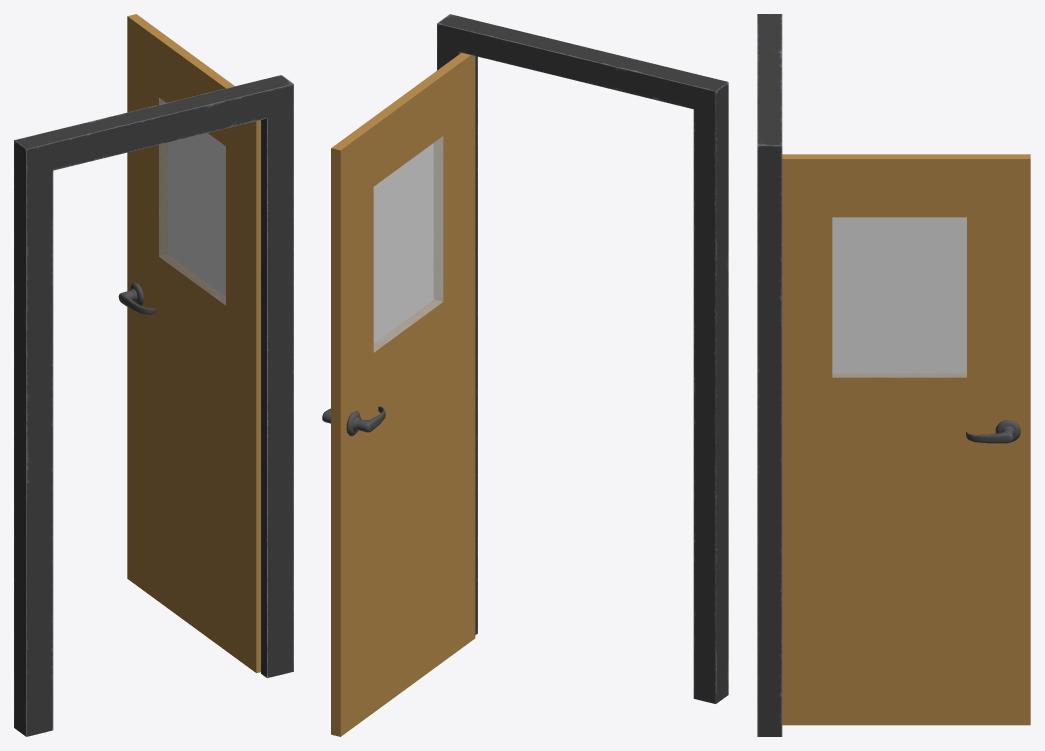
File: ClassRoomDoor.fbx
3 renders of one model, left to right at view 1: azimuth 30°, elevation 25°; view 2: azimuth 150°, elevation 25°; view 3: azimuth 270°, elevation 25°, orthographic. The views are drawn at different scales.
Visible parts, largest first — view 1: ClassRoomDoor; view 2: ClassRoomDoor; view 3: ClassRoomDoor.
Part boxes in pixels (<box>): ClassRoomDoor: <box>14,14,293,736</box>; ClassRoomDoor: <box>322,14,728,736</box>; ClassRoomDoor: <box>757,14,1030,736</box>.
Size of the model in its own units: 240 by 504 by 211.
